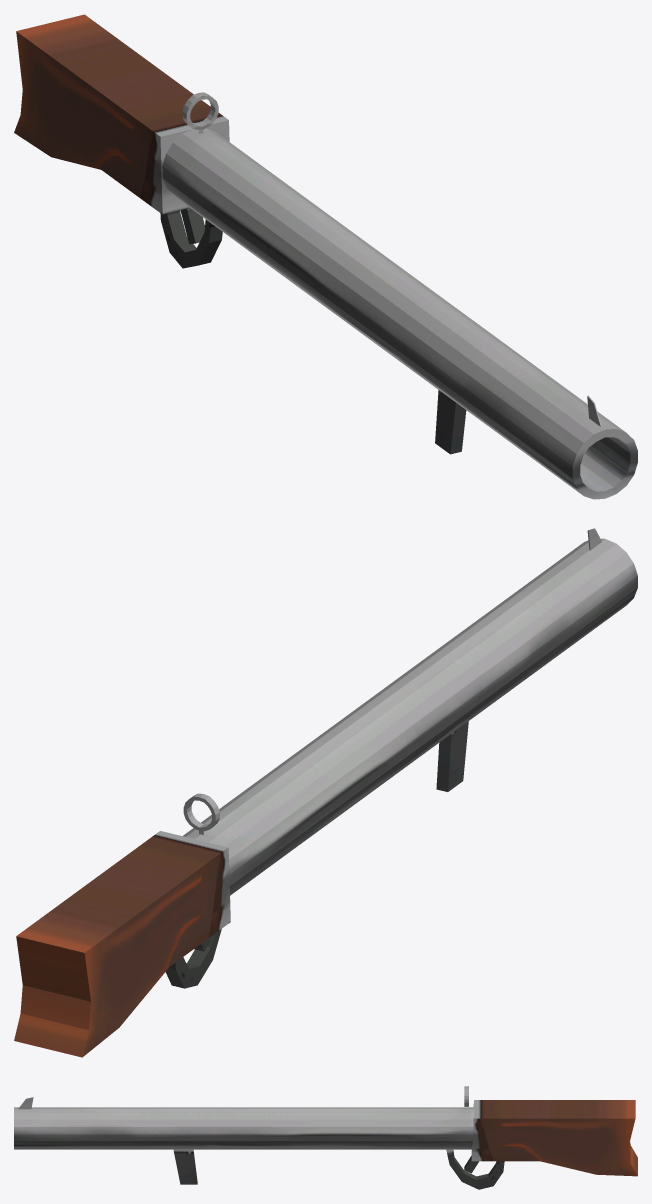
Rendered from PGun.glb.
3 views of the same model, one above another, from view 1: azimuth 30°, elevation 25°; view 2: azimuth 150°, elevation 25°; view 3: azimuth 270°, elevation 25° (orthographic). The views are drawn at different scales.
Visible parts, largest first — view 1: PGun; view 2: PGun; view 3: PGun.
Boxes of the visible parts, x1,y1,x2,y2 form: PGun: (14,14,637,499); PGun: (14,528,637,1057); PGun: (14,1086,637,1189).
Size of the model in its own units: 22.5 by 56.61 by 317.
Materials: 1 (1 with a texture image).
